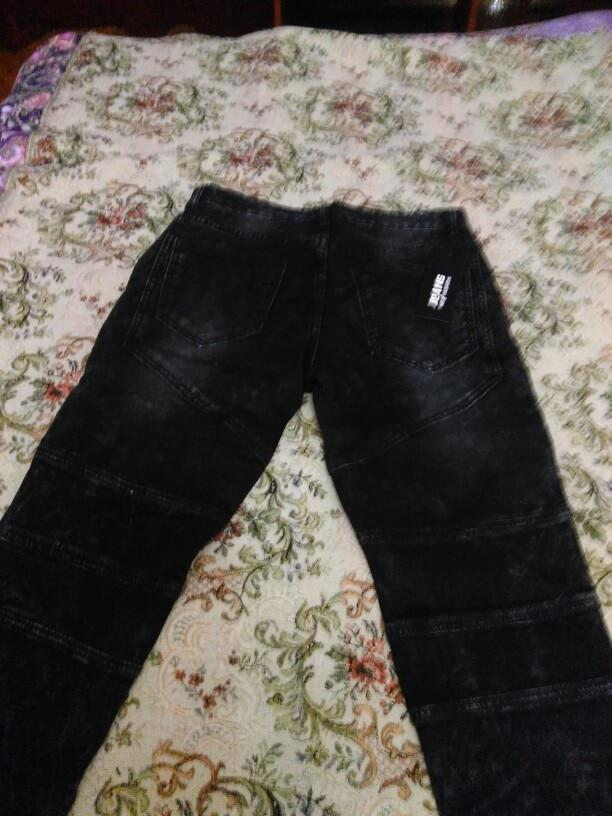jeans: (24, 191, 612, 778)
